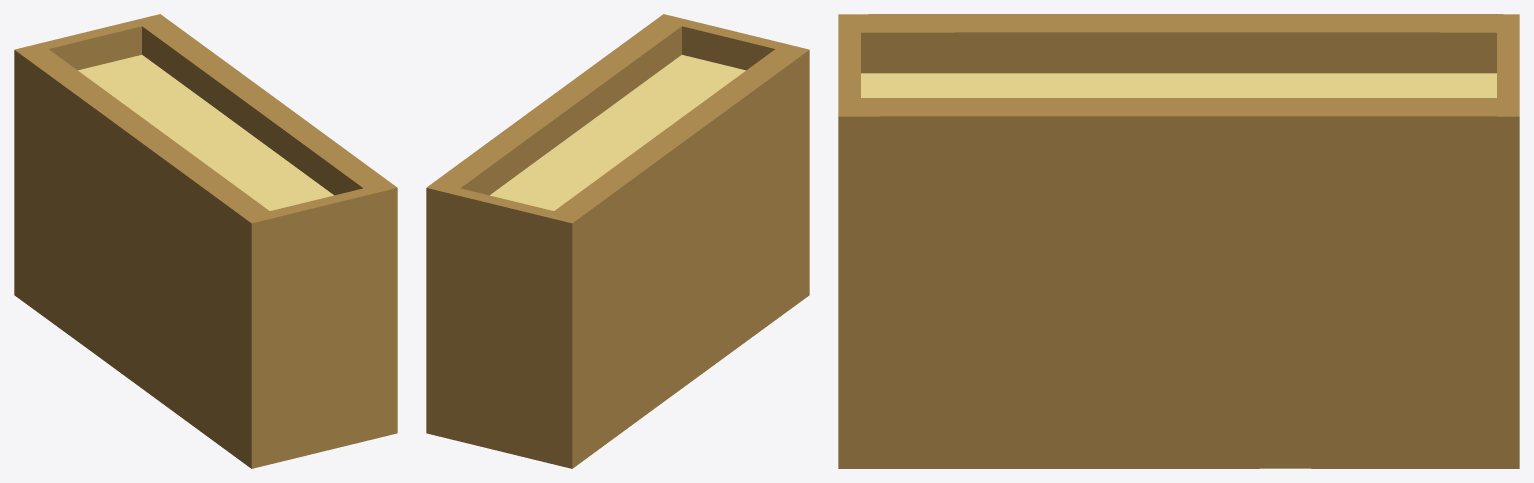
Rendered from socle_stick_small.fbx.
3 renders of one model, left to right at view 1: azimuth 30°, elevation 25°; view 2: azimuth 150°, elevation 25°; view 3: azimuth 270°, elevation 25°, orthographic. The views are drawn at different scales.
Parts seen in each view (by area): view 1: Support stick; view 2: Support stick; view 3: Support stick.
Boxes of the visible parts, x1,y1,x2,y2 form: Support stick: (14,14,397,468); Support stick: (426,14,809,468); Support stick: (838,14,1519,468).
Bounding box in the file's own units: 15.26 × 24.52 × 42.96.
